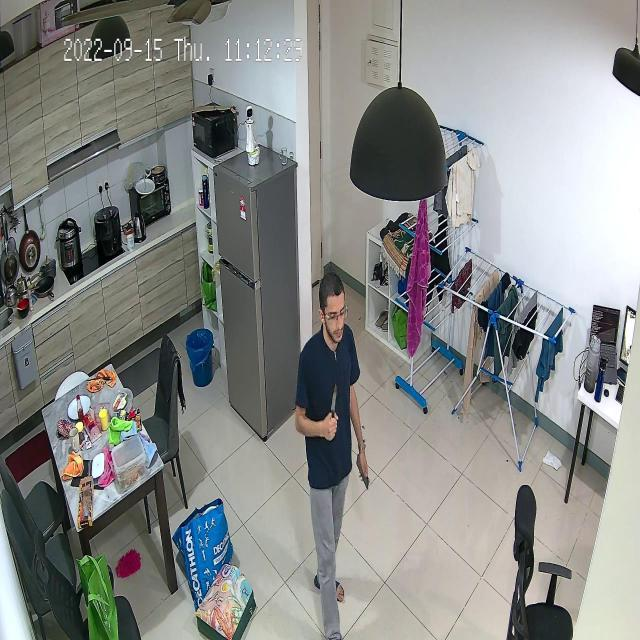Knife: (321, 377, 348, 425)
